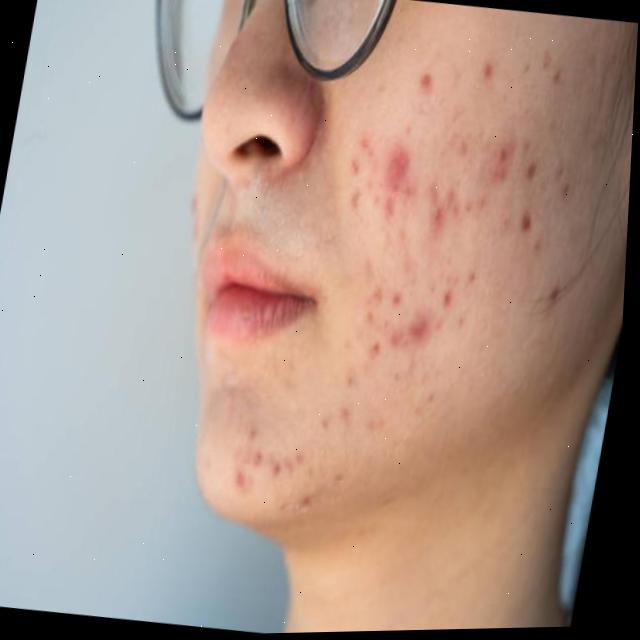Rosacea: (331, 54, 550, 371), (208, 399, 333, 489)
